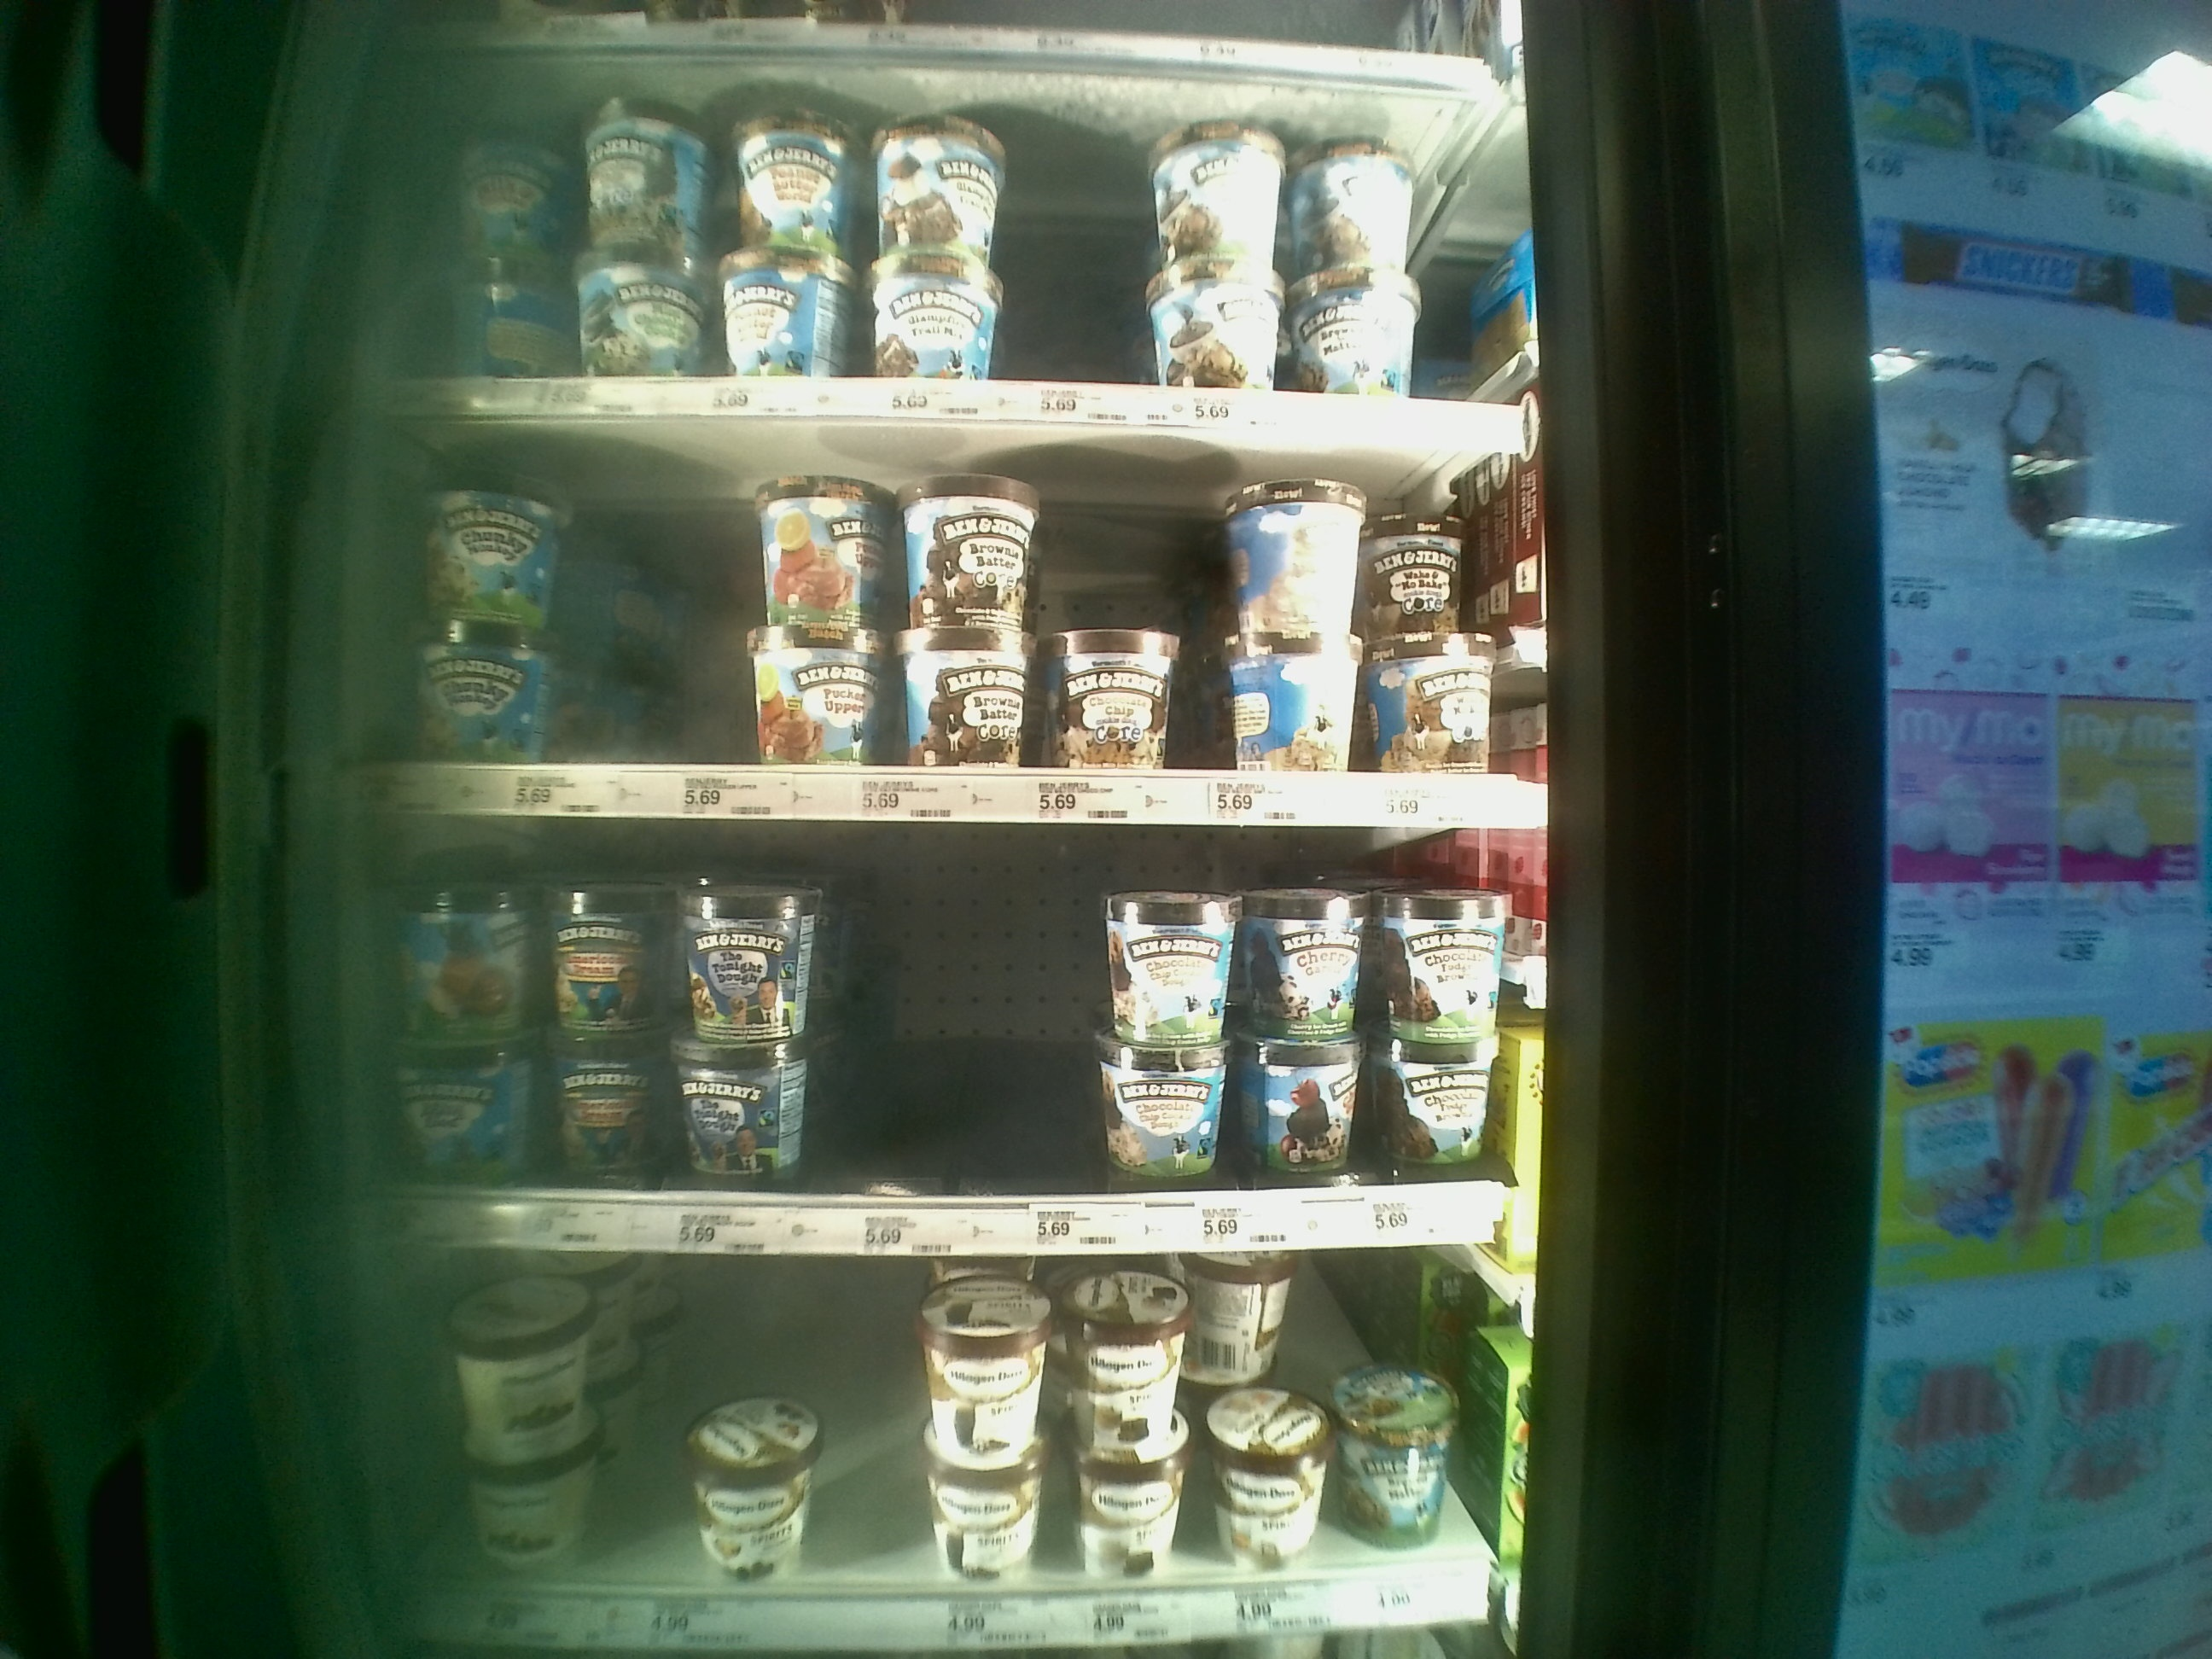shelf: (394, 824, 1515, 1253), (394, 413, 1533, 819), (387, 1260, 1541, 1656), (401, 33, 1526, 416)
